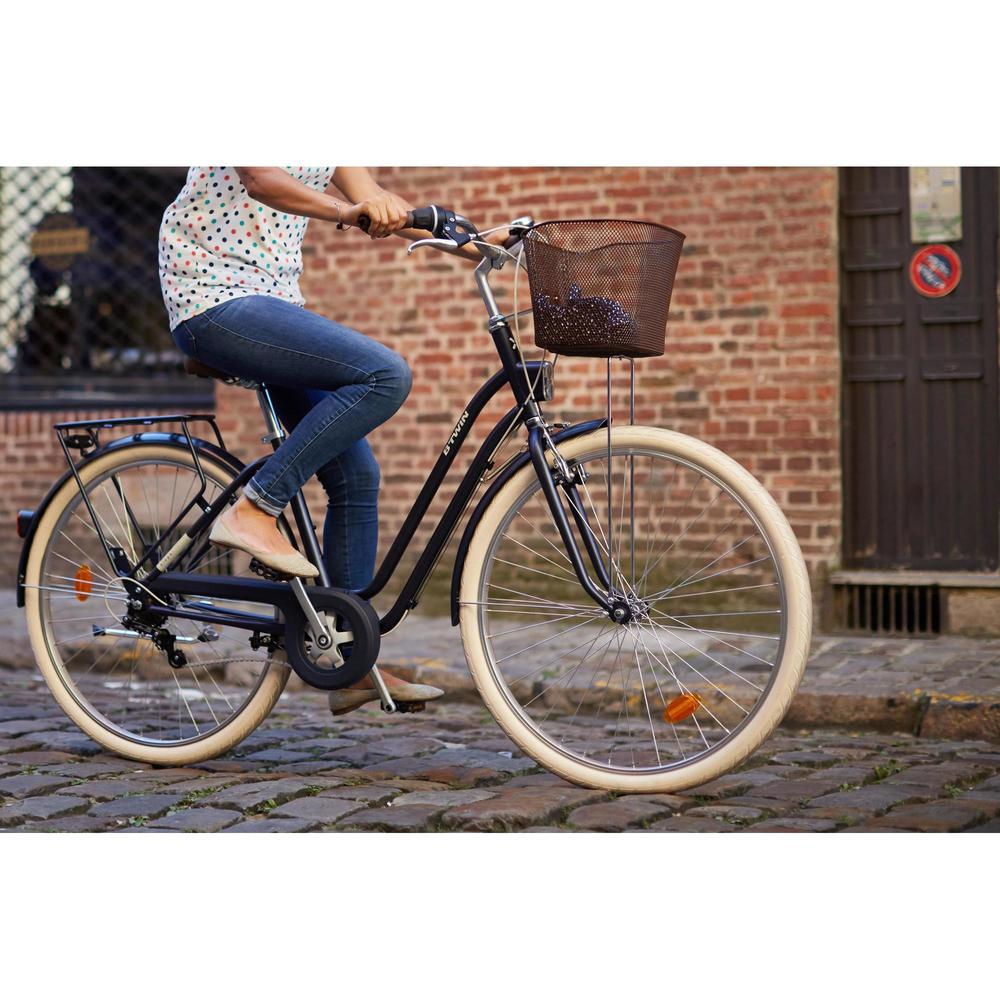UrbanBike: (20, 193, 805, 804)
